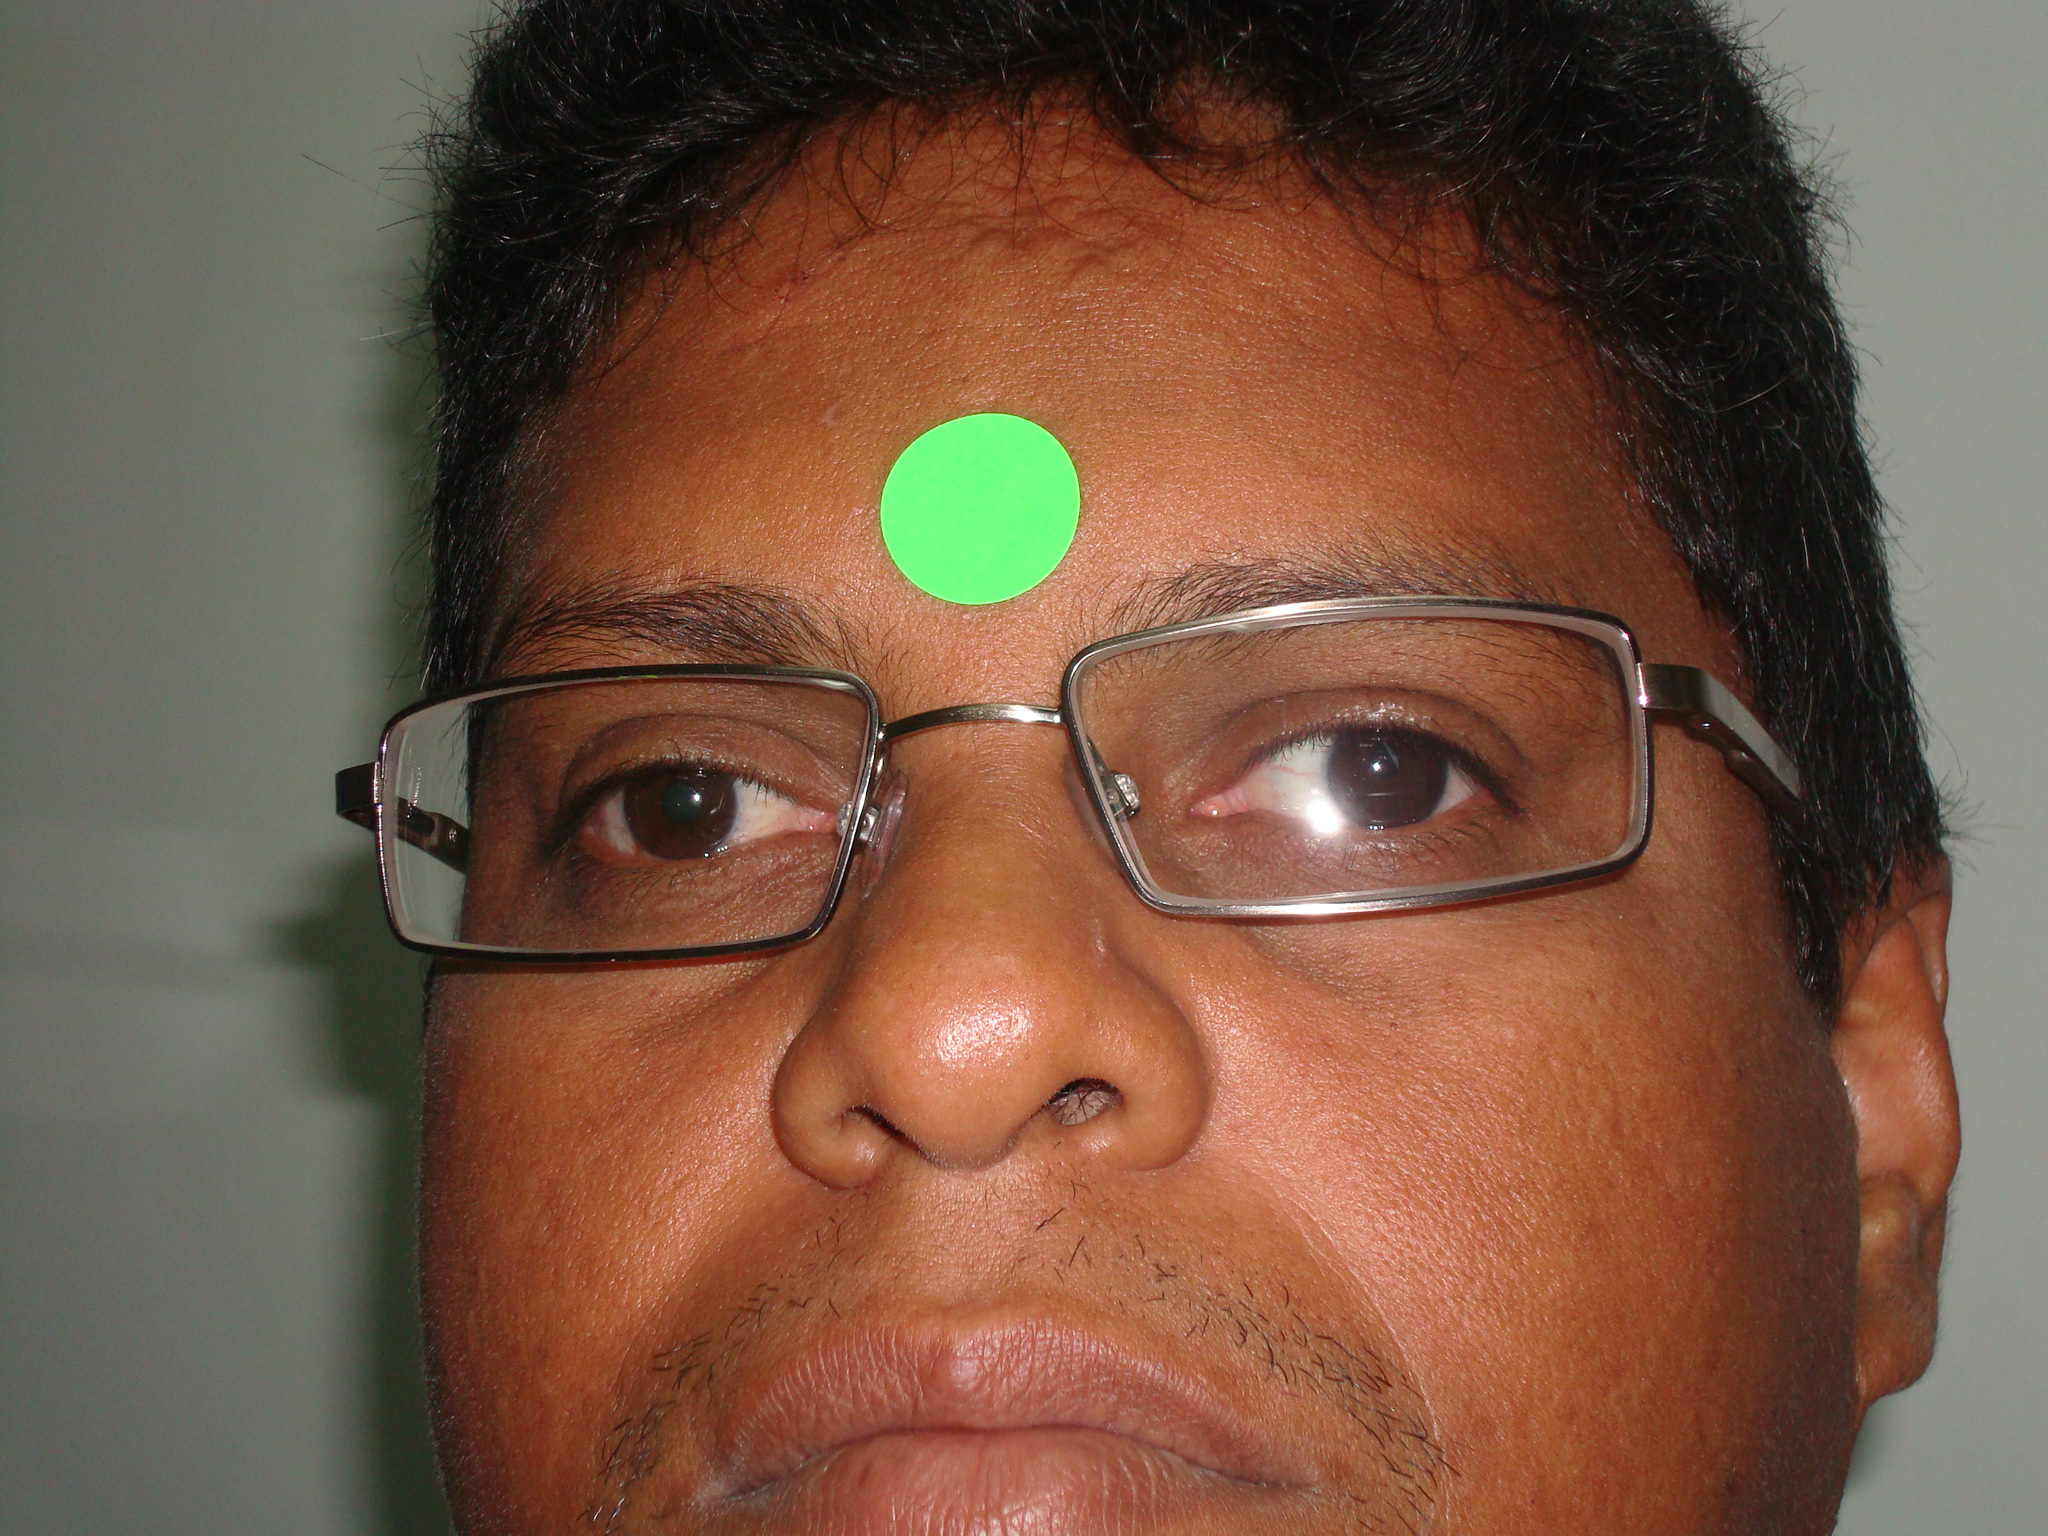flash: (687, 786, 708, 807), (1367, 757, 1385, 776)
limbo: (1321, 700, 1443, 821), (629, 747, 732, 855)
